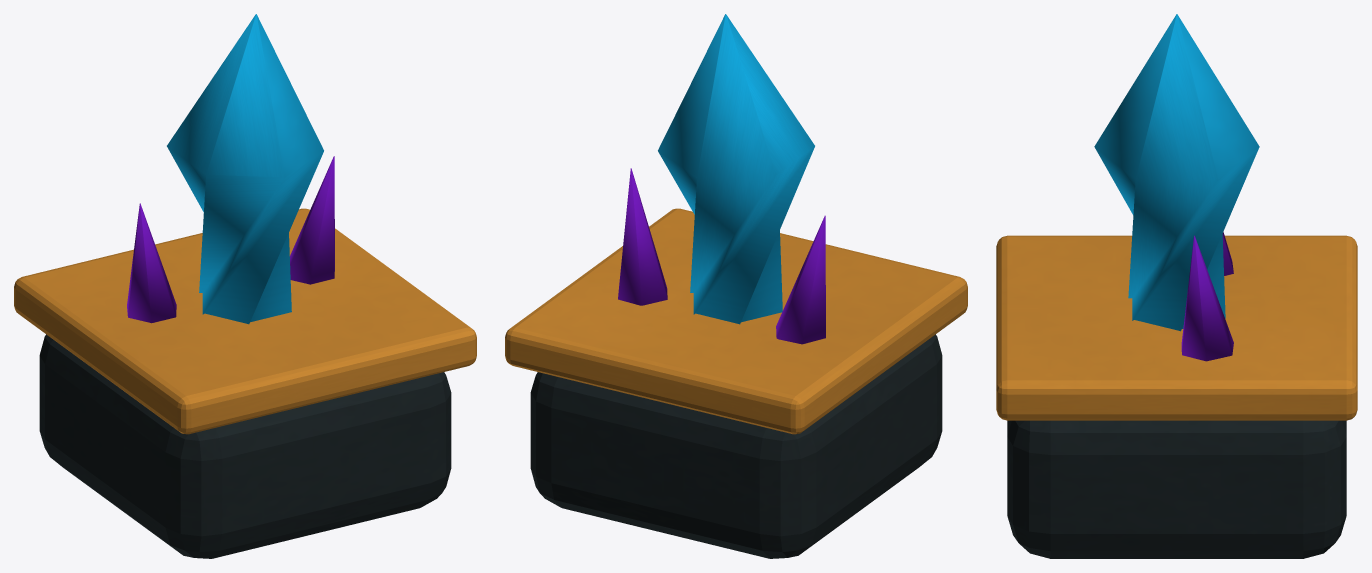
File: SM_crystal_plinth.fbx
3 renders of one model, left to right at view 1: azimuth 30°, elevation 25°; view 2: azimuth 150°, elevation 25°; view 3: azimuth 270°, elevation 25°, orthographic. The views are drawn at different scales.
Parts seen in each view (by area): view 1: SM_crystal_plinth; view 2: SM_crystal_plinth; view 3: SM_crystal_plinth.
Boxes of the visible parts, x1=… form: SM_crystal_plinth: x1=14, y1=14, x2=476, y2=558; SM_crystal_plinth: x1=505, y1=14, x2=967, y2=558; SM_crystal_plinth: x1=996, y1=14, x2=1357, y2=558.
Size of the model in its own units: 0.83 by 0.83 by 1.25.
